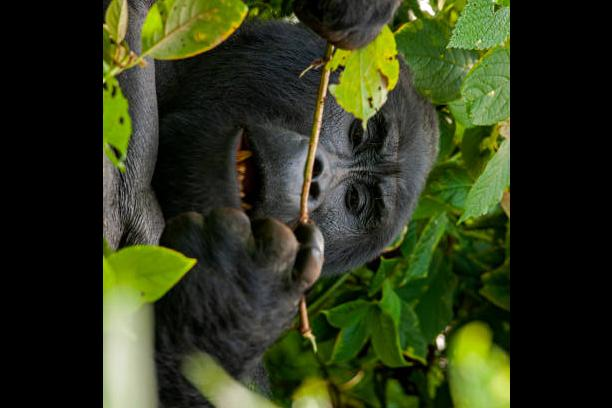goriile_montagne: (102, 0, 453, 408)
